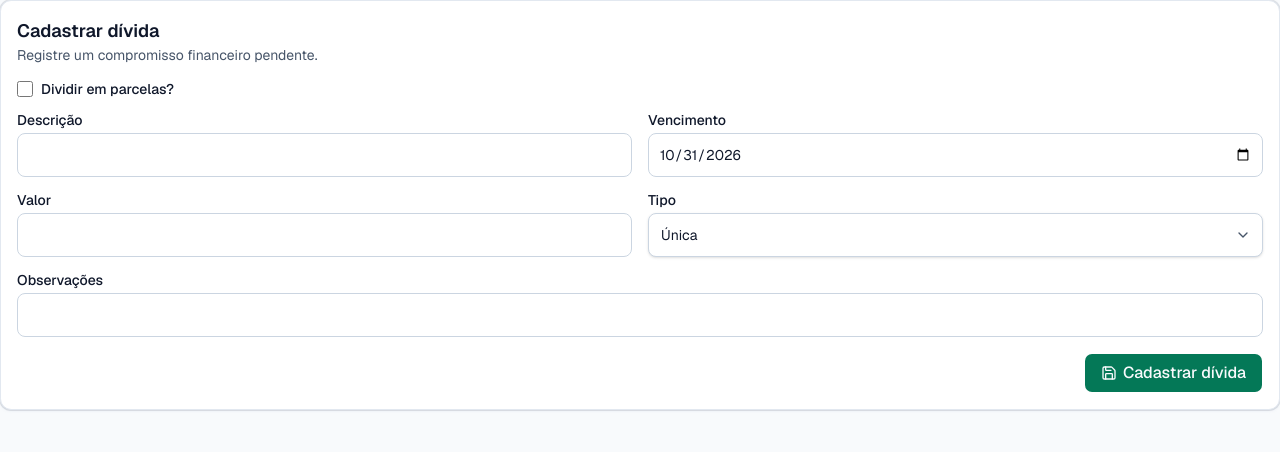
Test: DebtForm › should show an approximate per-installment preview as amount and installment count change
Click the checkbox labelled "Dividir em parcelas?" at coordinates (25, 89), box [17, 81, 33, 97]
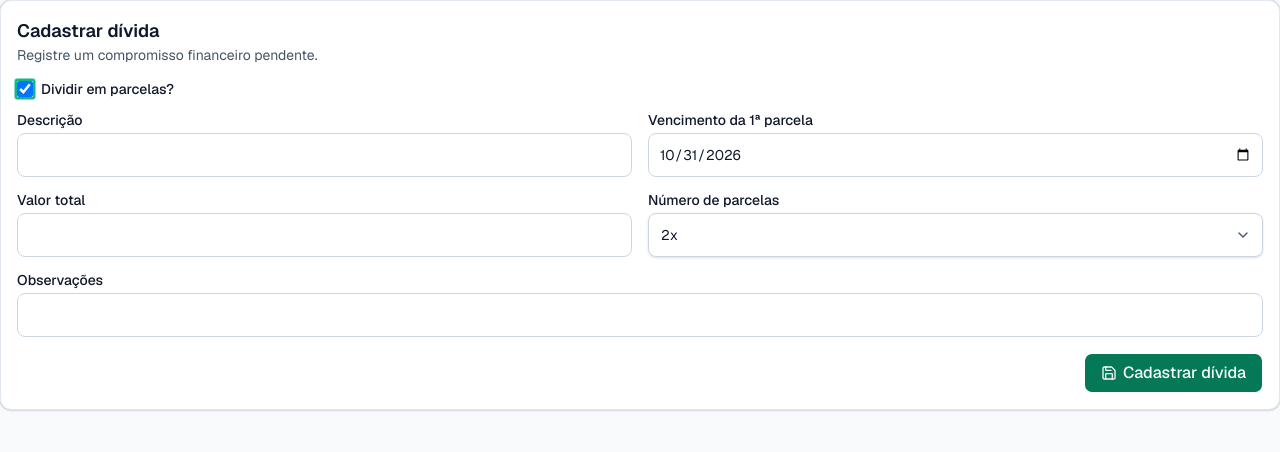
Select "4x" in the dropdown labelled "Número de parcelas" at coordinates (956, 235), box [648, 213, 1263, 257]
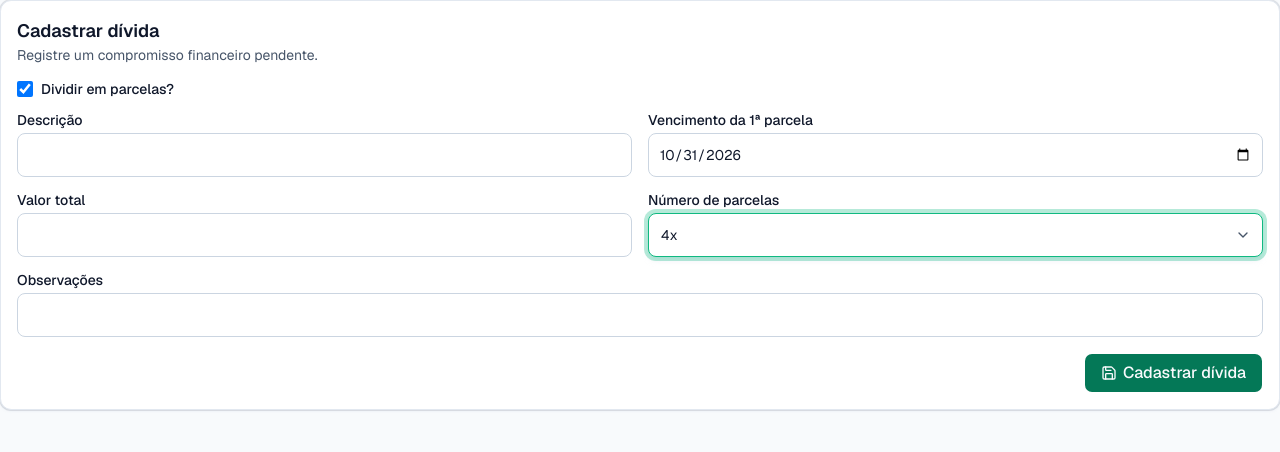
Type "1200" into the field labelled "Valor total" at coordinates (324, 235), box [17, 213, 632, 257]
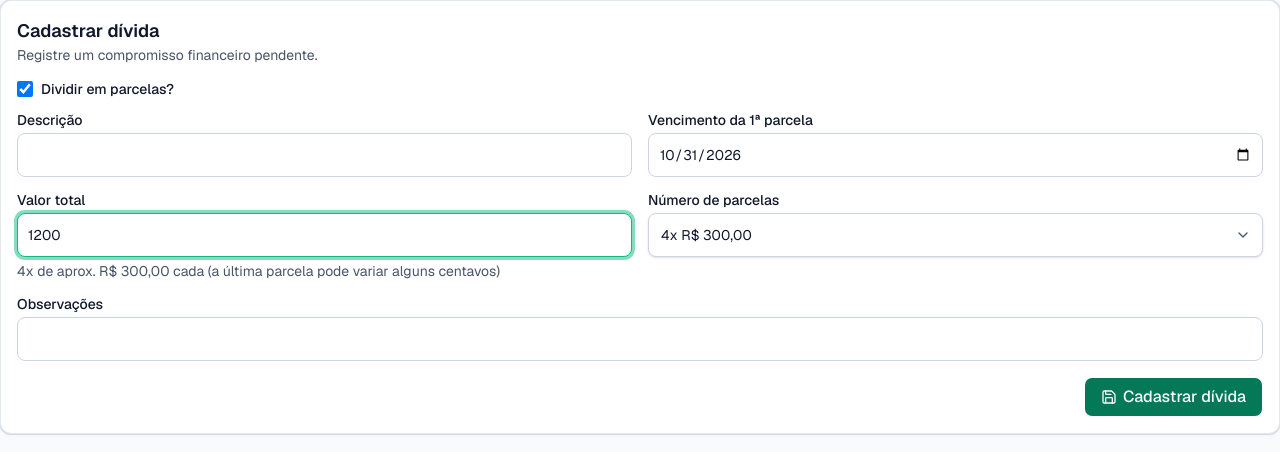
Expected: the text "4x de aprox. R$ 300,00 cada" is shown, [17, 262, 500, 280]
